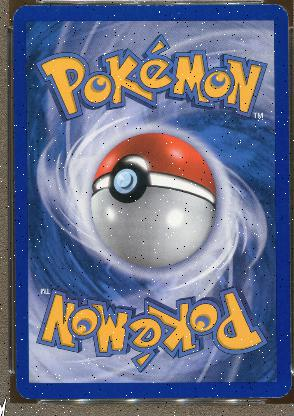Card: (11, 2, 291, 398)
Corner Wear: (15, 376, 31, 400), (267, 384, 290, 398), (274, 3, 289, 19), (13, 5, 21, 23)
Edge Wear: (129, 396, 264, 399), (74, 4, 211, 6), (15, 312, 17, 360), (286, 106, 288, 134), (287, 252, 289, 266)
Scratch: (41, 5, 61, 12), (257, 13, 266, 20), (30, 82, 36, 88), (175, 10, 180, 14), (23, 315, 27, 319), (249, 17, 254, 19)
